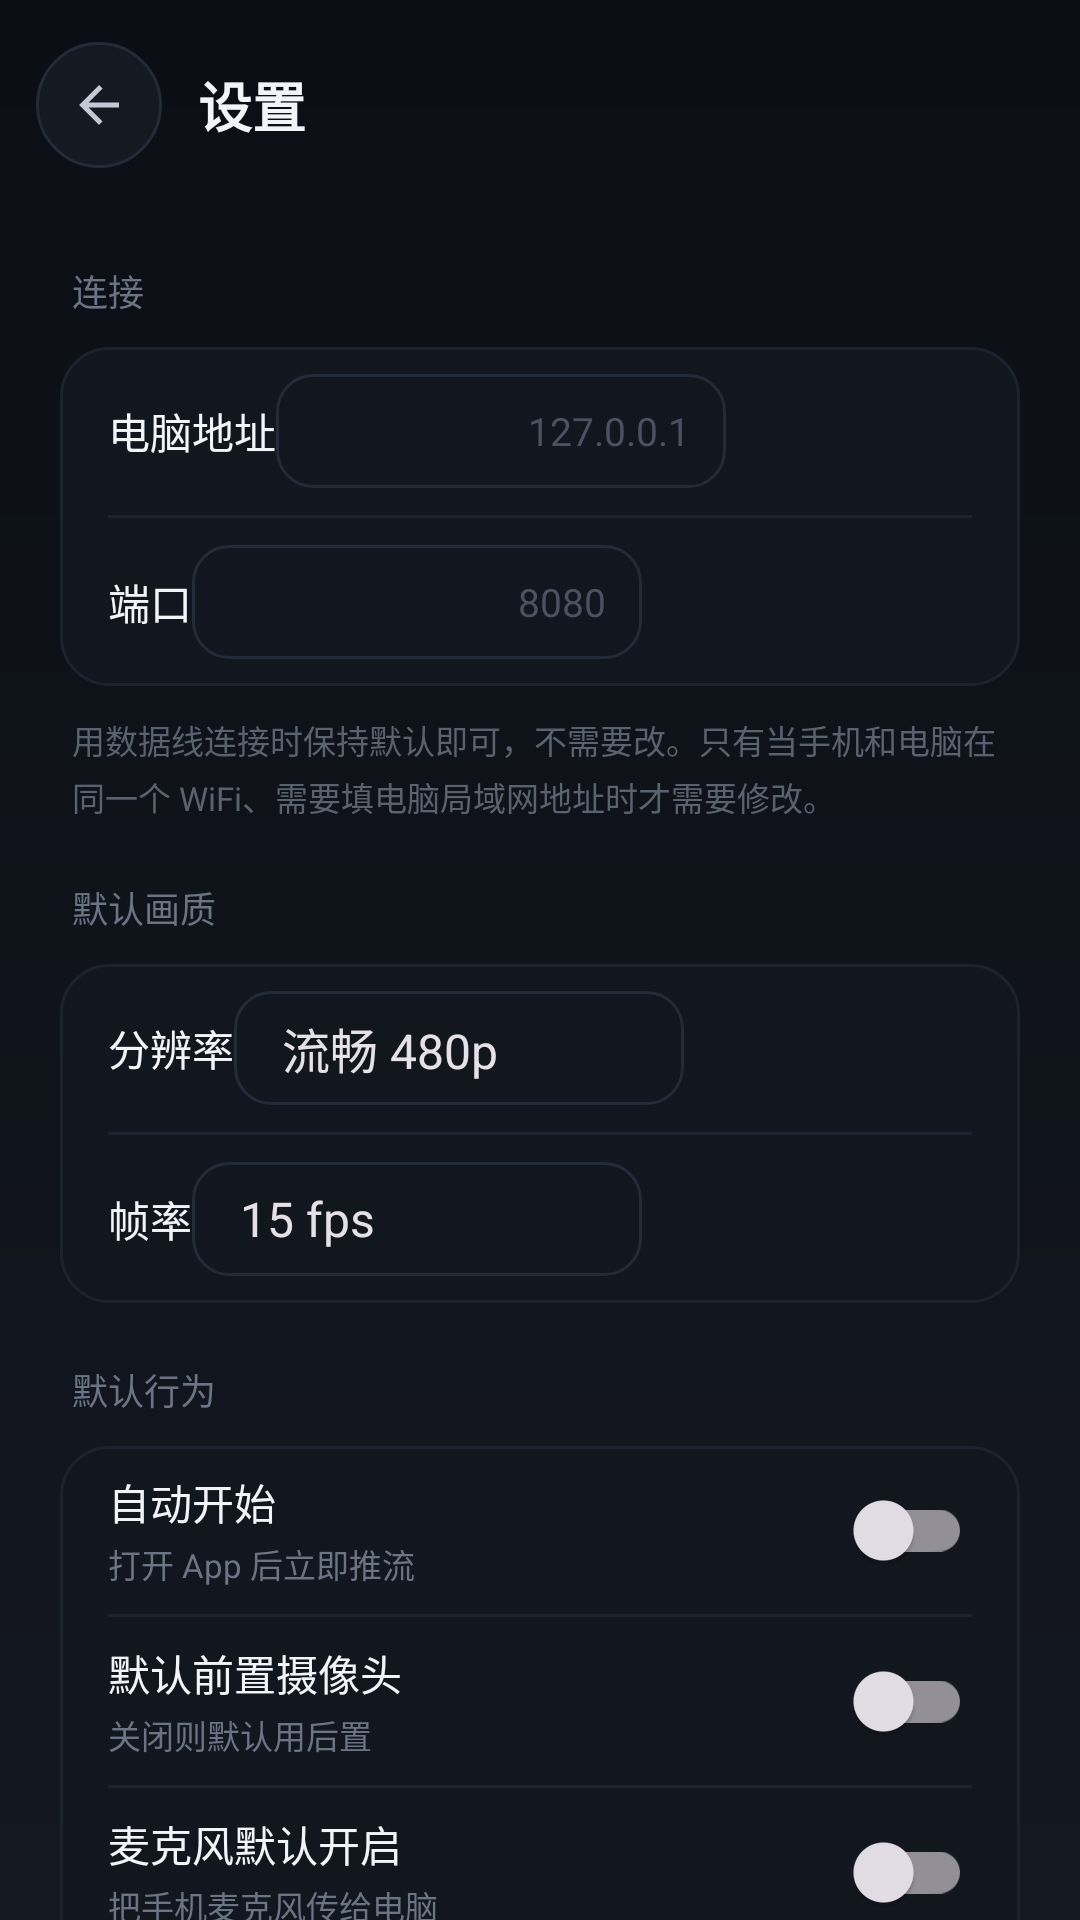

Locate icon controls on the screen. Image size 1080 × 1920, boxes as [left=x1, top=y1, right=x2, bottom=y2].
返回: [left=79, top=85, right=119, bottom=125]
